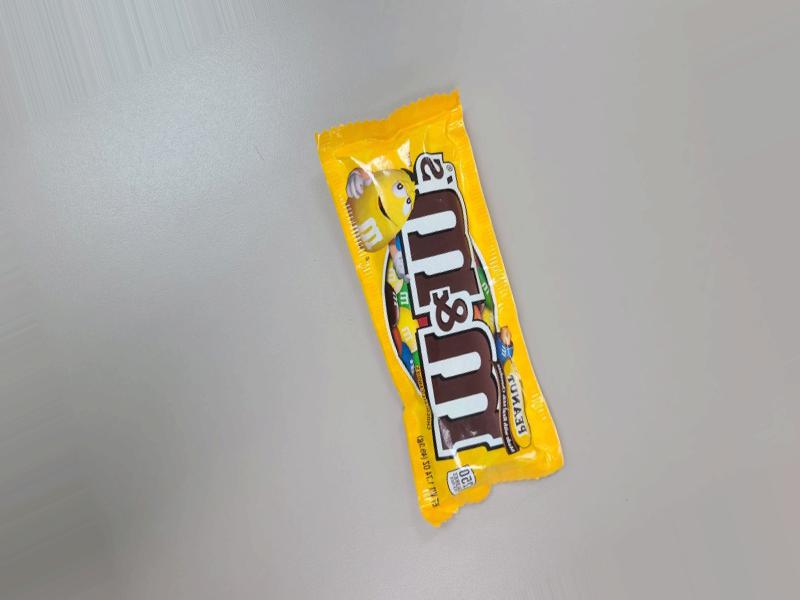m&m: (318, 98, 561, 509)
